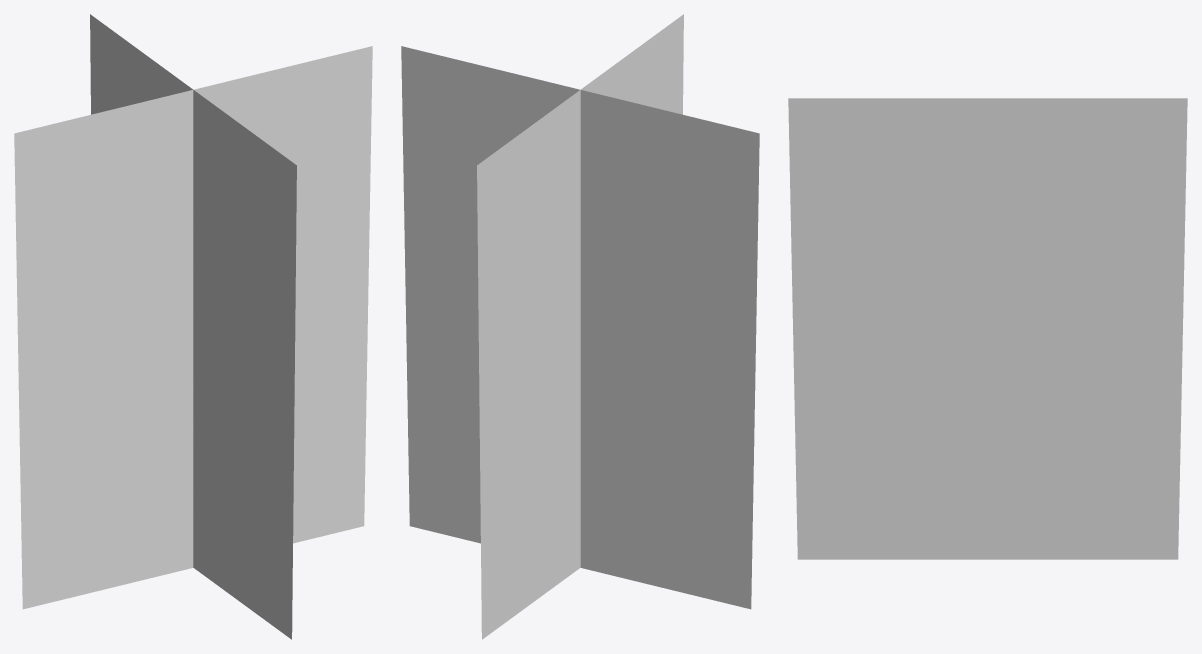
3 views of the same model, side by side, from view 1: azimuth 30°, elevation 25°; view 2: azimuth 150°, elevation 25°; view 3: azimuth 270°, elevation 25° (orthographic). The views are drawn at different scales.
Parts seen in each view (by area): view 1: Plane_016; view 2: Plane_016; view 3: Plane_016.
Boxes of the visible parts, x1,y1,x2,y2 form: Plane_016: (14,14,372,639); Plane_016: (401,14,759,639); Plane_016: (788,98,1187,559).
Bounding box in the file's own units: 27.36 × 34.87 × 27.36.
